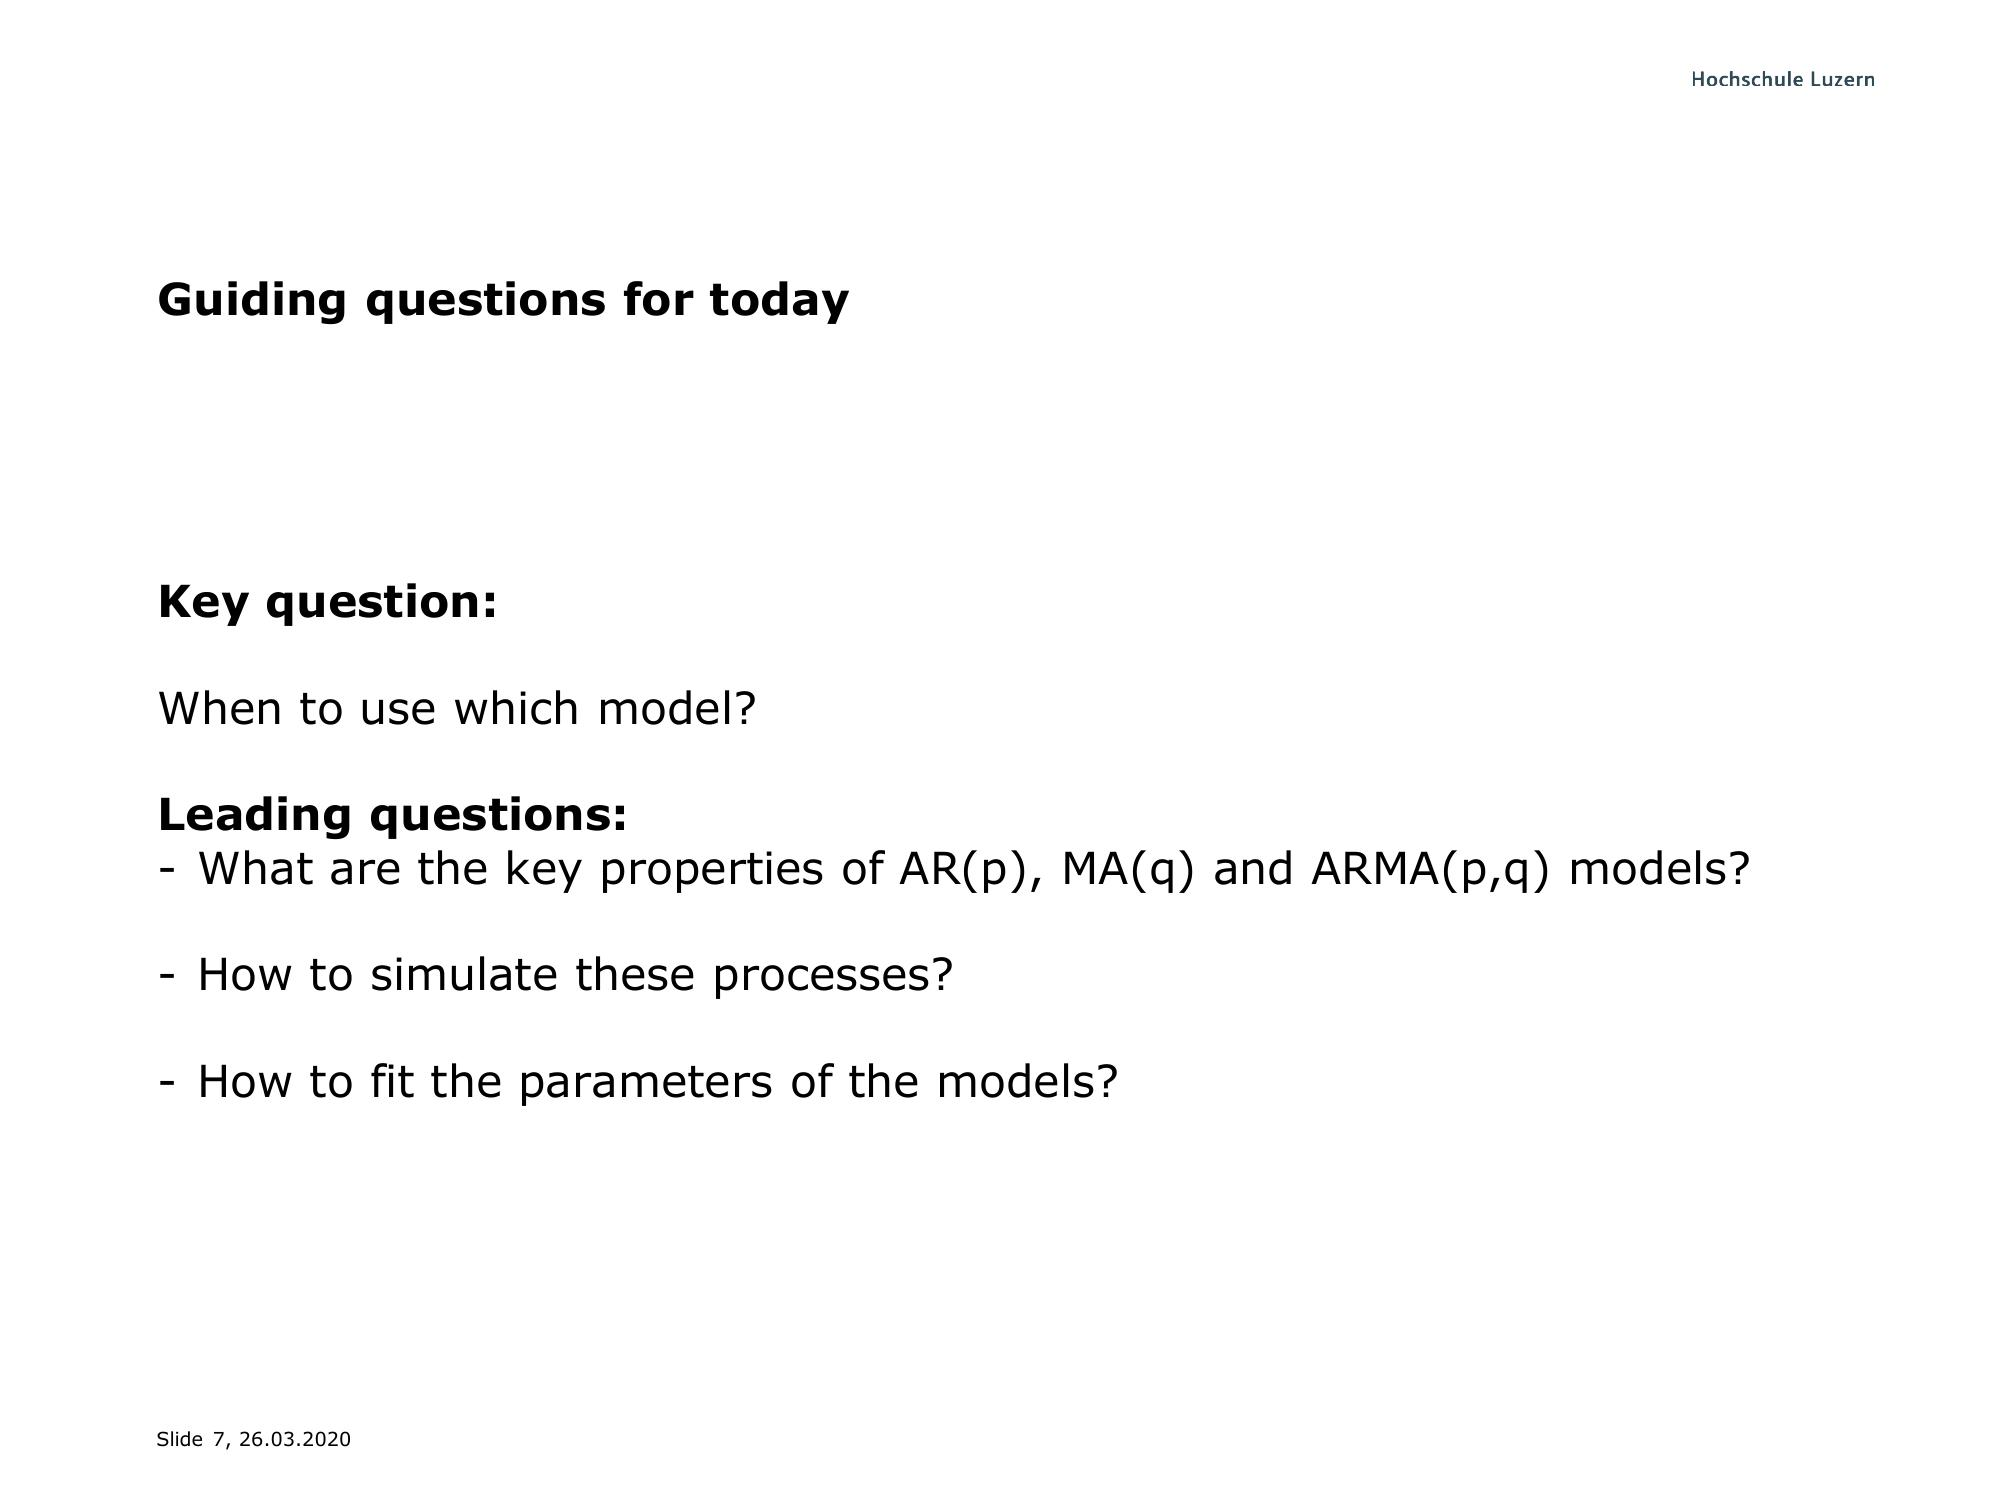Title: (146, 266, 857, 334)
